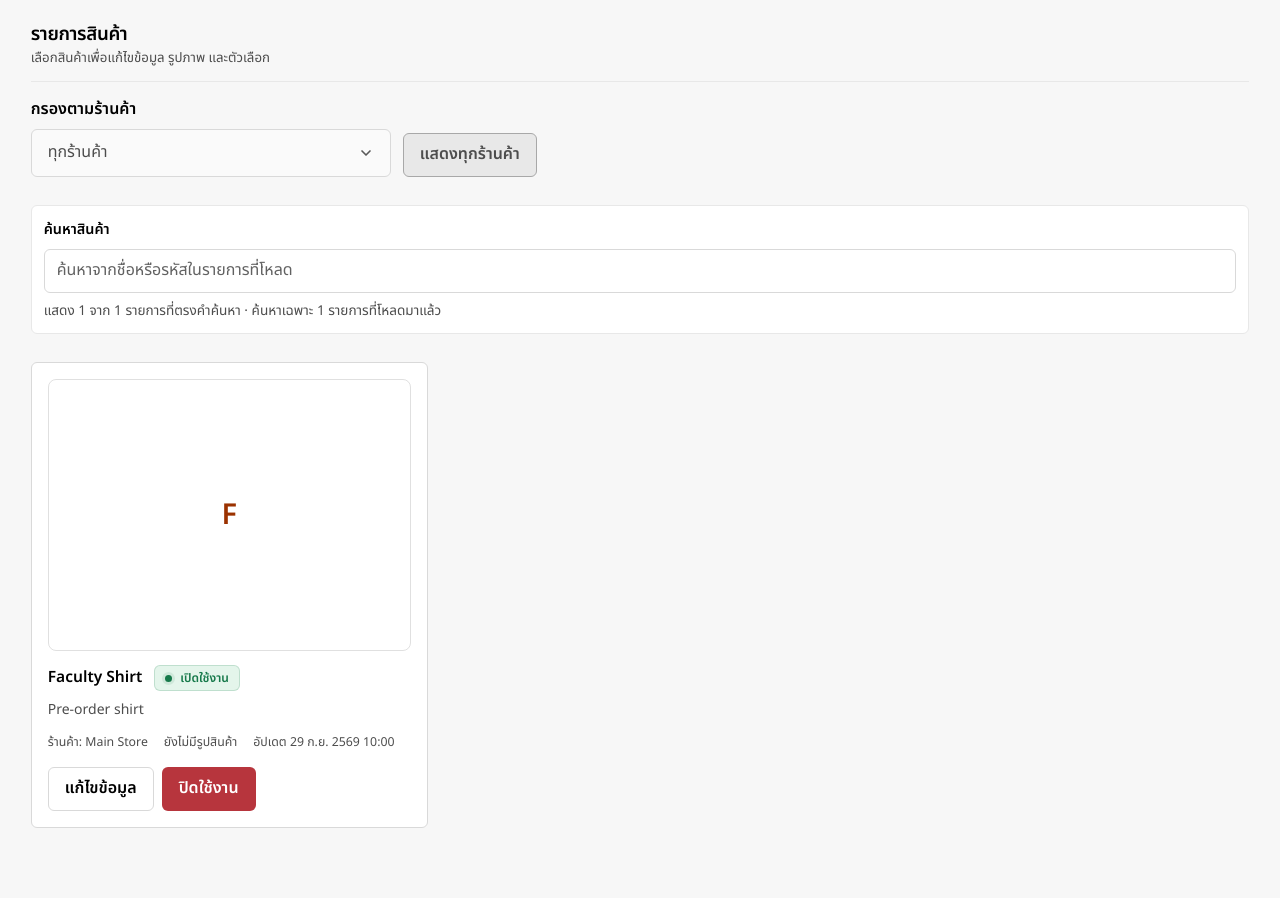
ProductManagementView › loads fresh product detail before editing and updates only text fields
(page scrolled)
Expected: the heading "Faculty Shirt" is shown, [48,666,142,691]
Click the button "แก้ไขข้อมูล" at {"x": 101, "y": 789}, box [48,767,154,811]
(page scrolled)
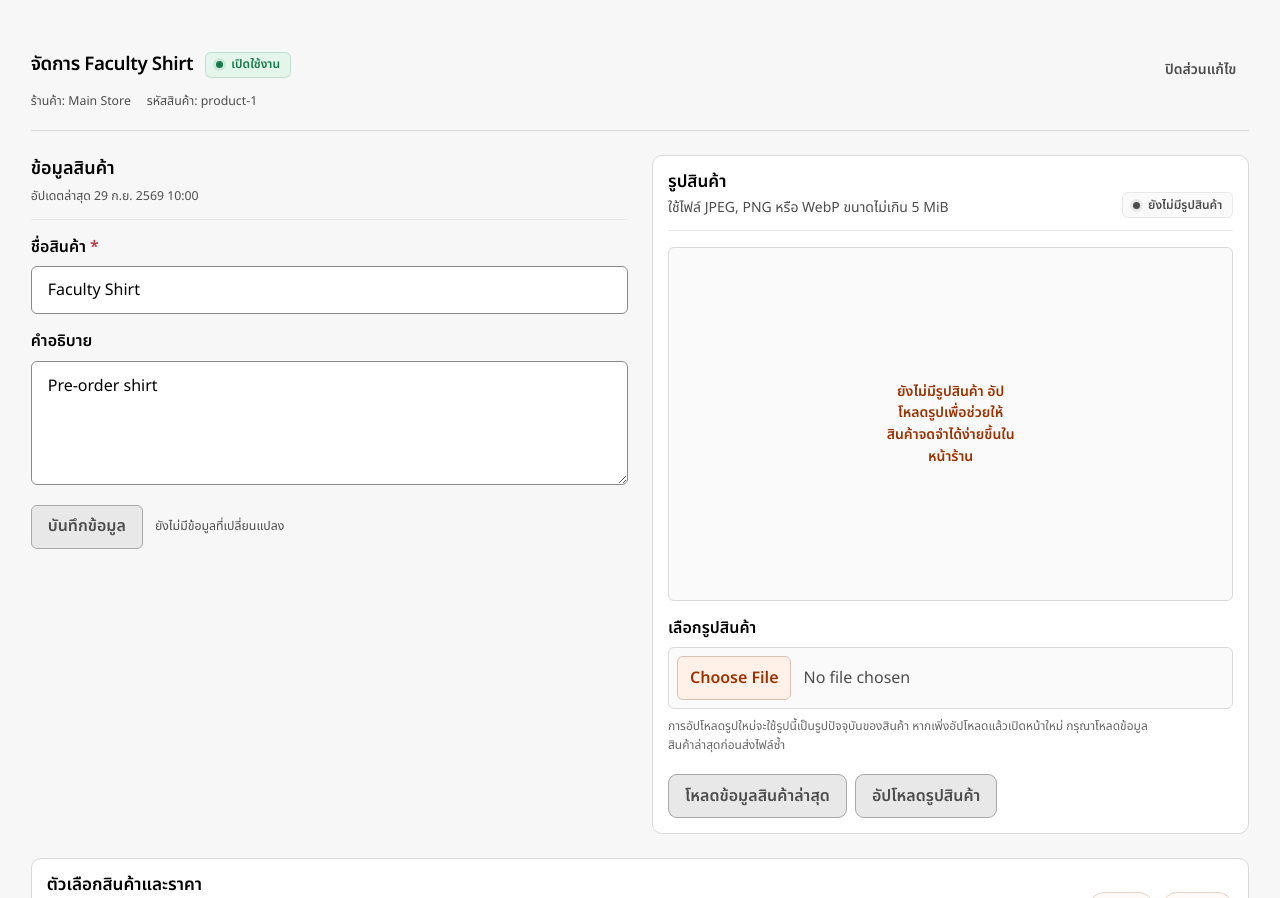
Replace the text in the field showing "Faculty Shirt" with "Updated Shirt" at {"x": 329, "y": 290}, box [31,266,628,314]
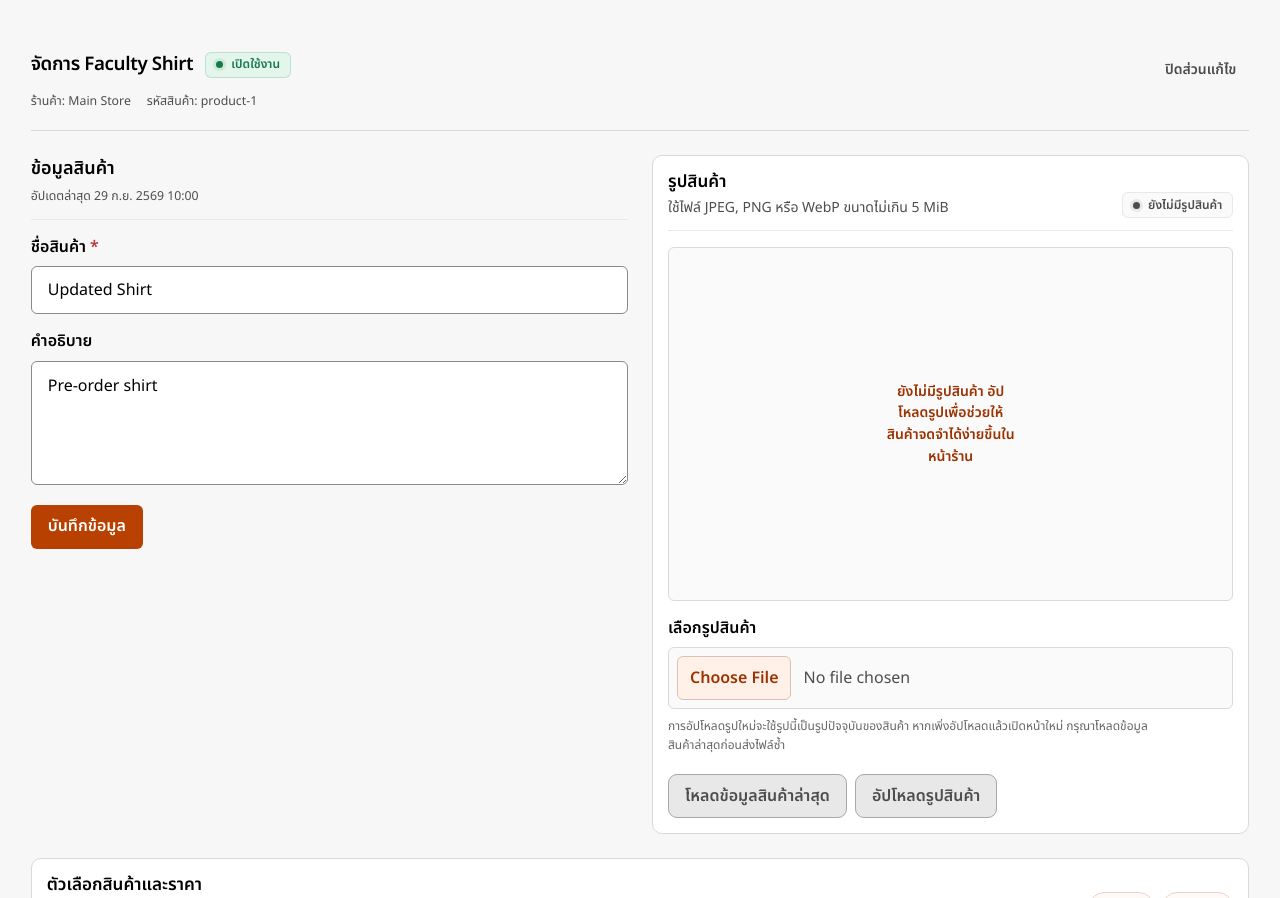
Replace the text in the text box showing "Pre-order shirt" with "Updated description" at {"x": 329, "y": 423}, box [31,361,628,485]
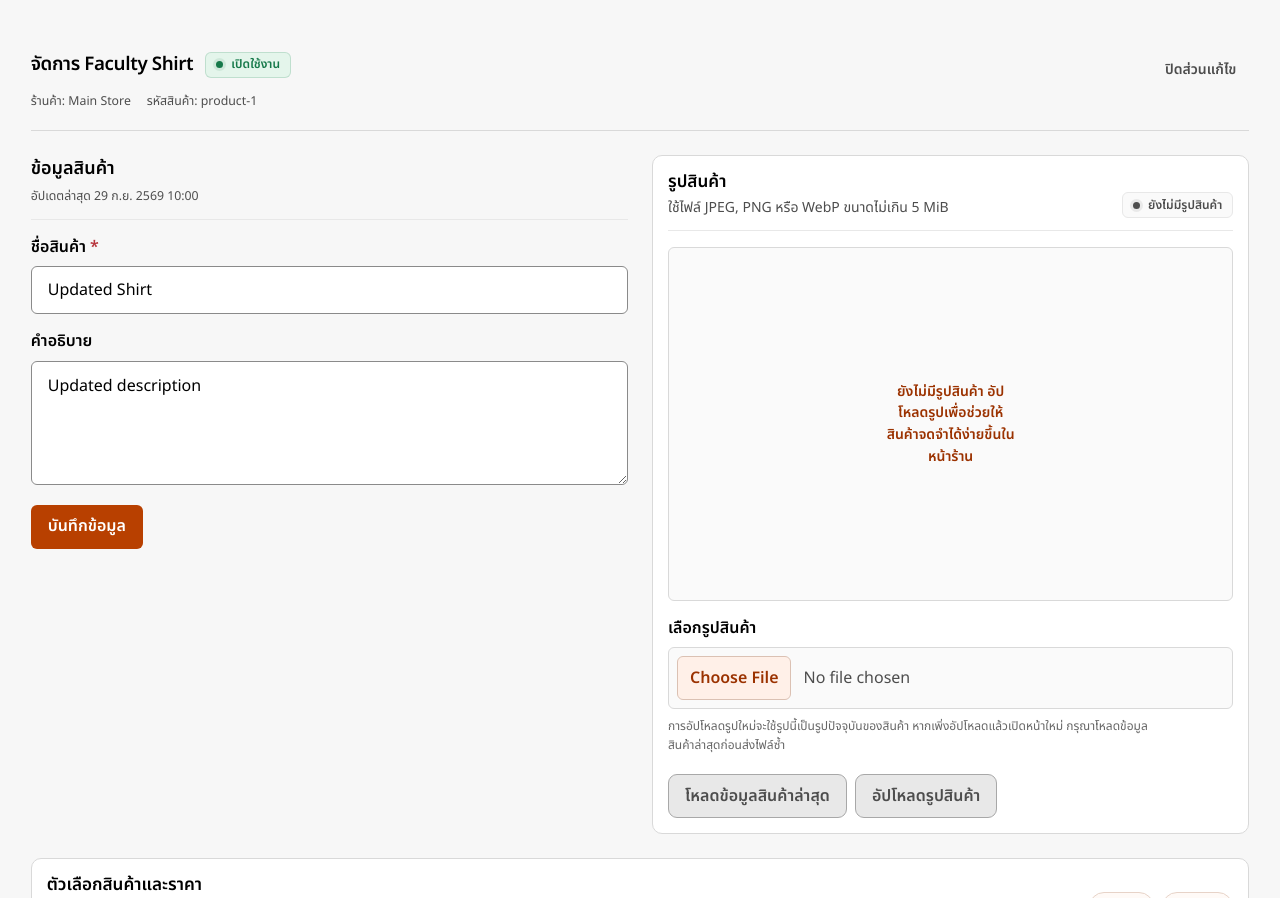
Click the button "บันทึกข้อมูล" at {"x": 87, "y": 527}, box [31,505,143,549]
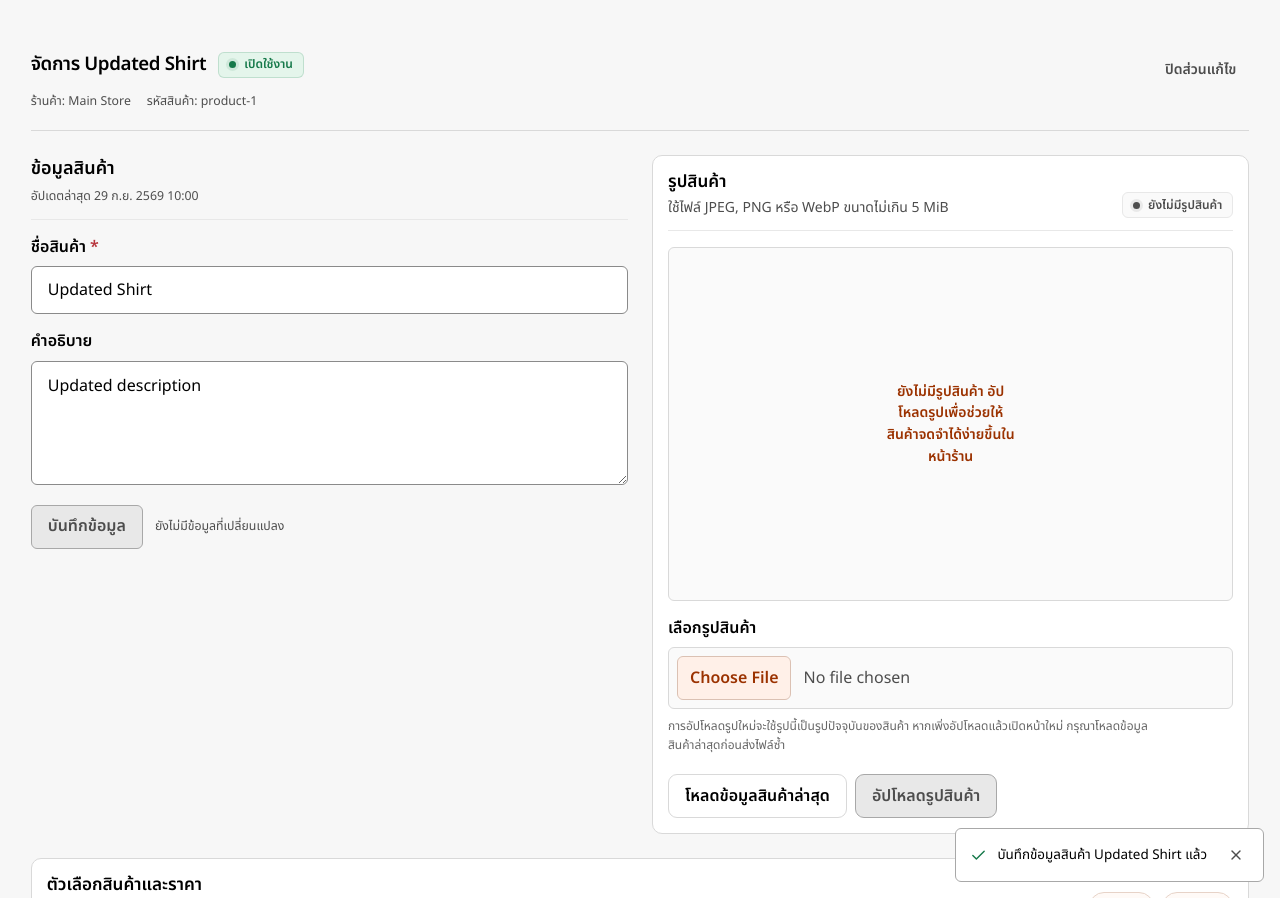
Result: the text "บันทึกข้อมูลสินค้า Updated Shirt แล้ว" is shown at [997,845,1207,865]
